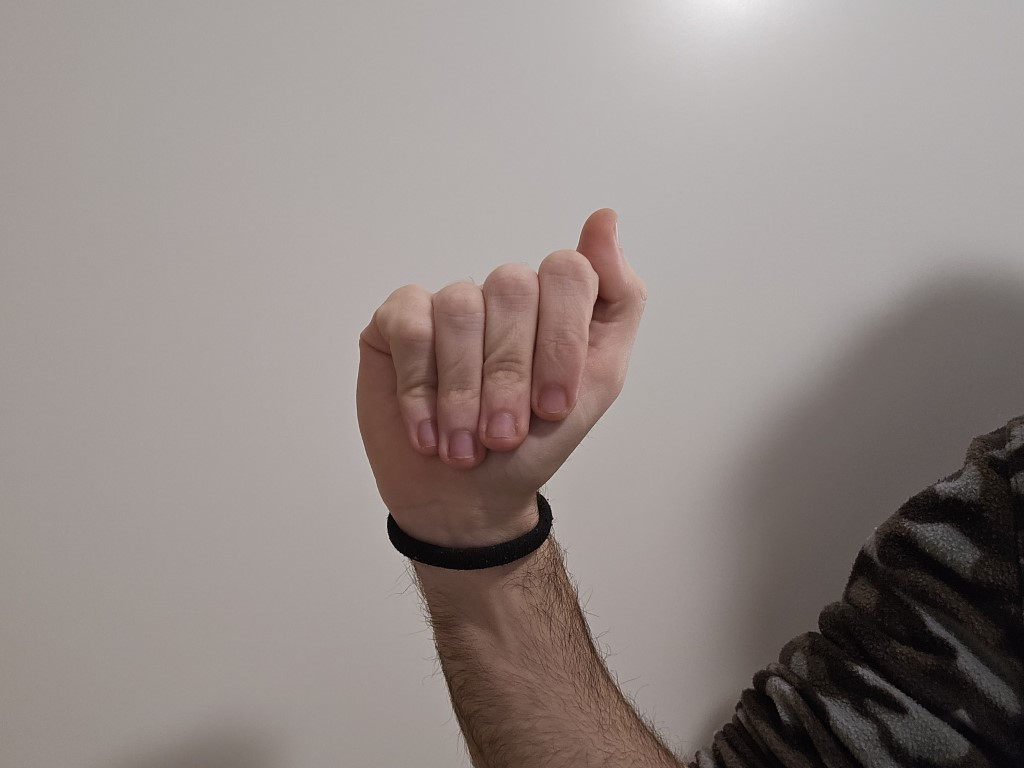a: (339, 201, 660, 547)
